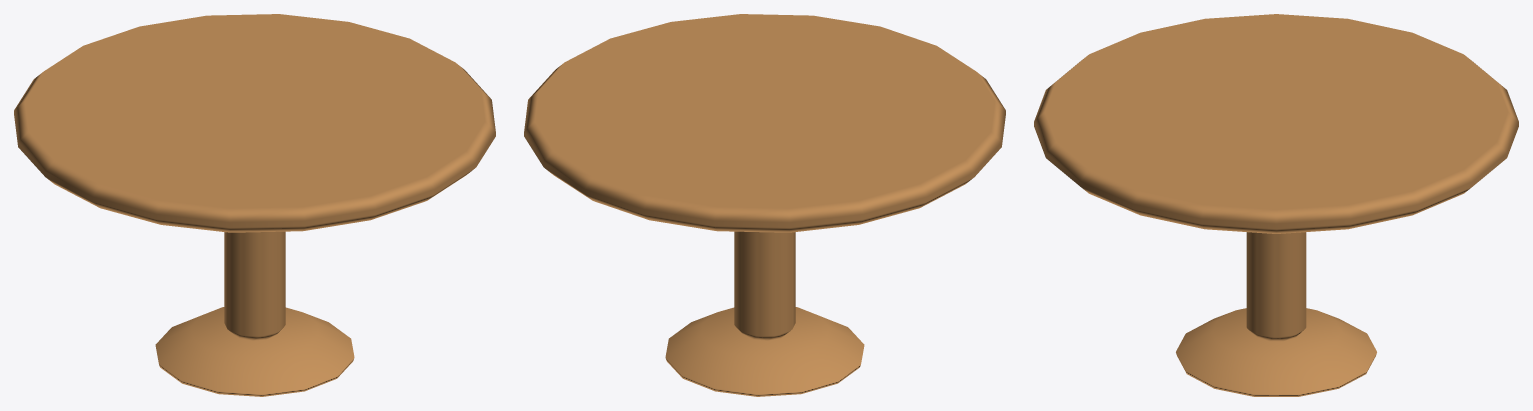
The model's file is table_round.glb.
The picture shows the model from 3 angles, left to right: view 1: azimuth 30°, elevation 25°; view 2: azimuth 150°, elevation 25°; view 3: azimuth 270°, elevation 25°; orthographic projection.
Visible parts, largest first — view 1: table_round; view 2: table_round; view 3: table_round.
Part boxes in pixels (bbox=[...]): table_round: bbox=[14, 14, 495, 396]; table_round: bbox=[524, 14, 1005, 396]; table_round: bbox=[1034, 14, 1518, 396].
Size of the model in its own units: 0.9 by 0.5 by 0.9.
